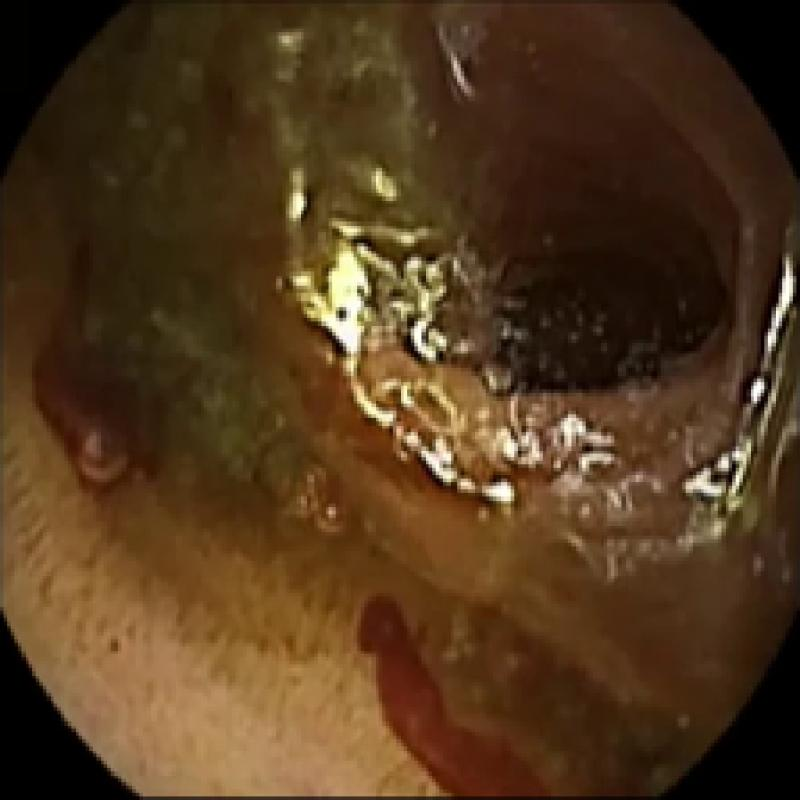bleeding: (361, 589, 539, 800), (29, 246, 132, 472)
